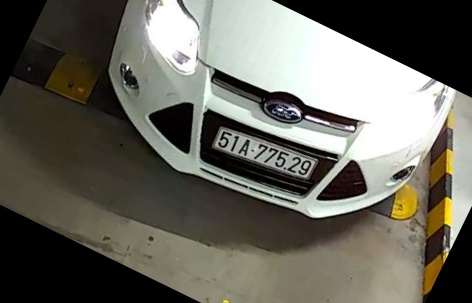plate: (208, 125, 319, 188)
